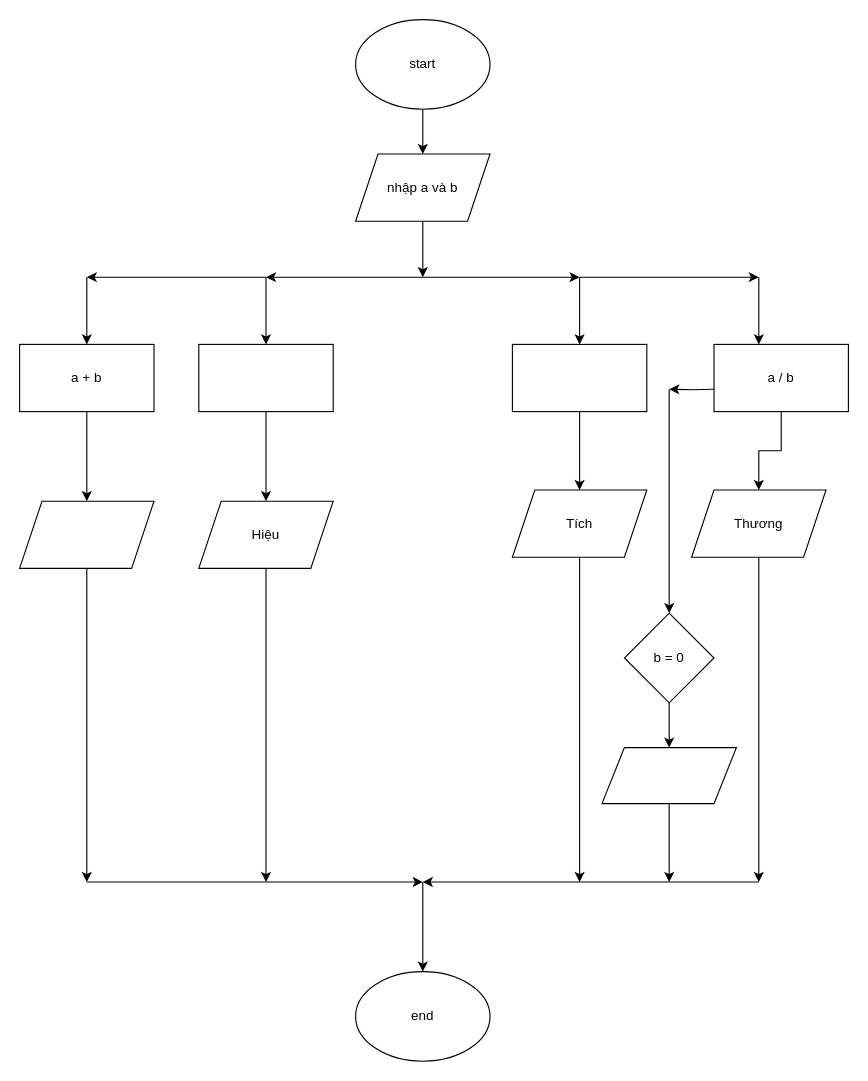
Image size: 868x1081. Some labels were removed from this diagram. The centre of each missing label's shape, as x and y in pixels:
a * b: the point at 579,377
a - b: the point at 265,377
Lỗi ct: the point at 668,775
Tổng: the point at 86,534
